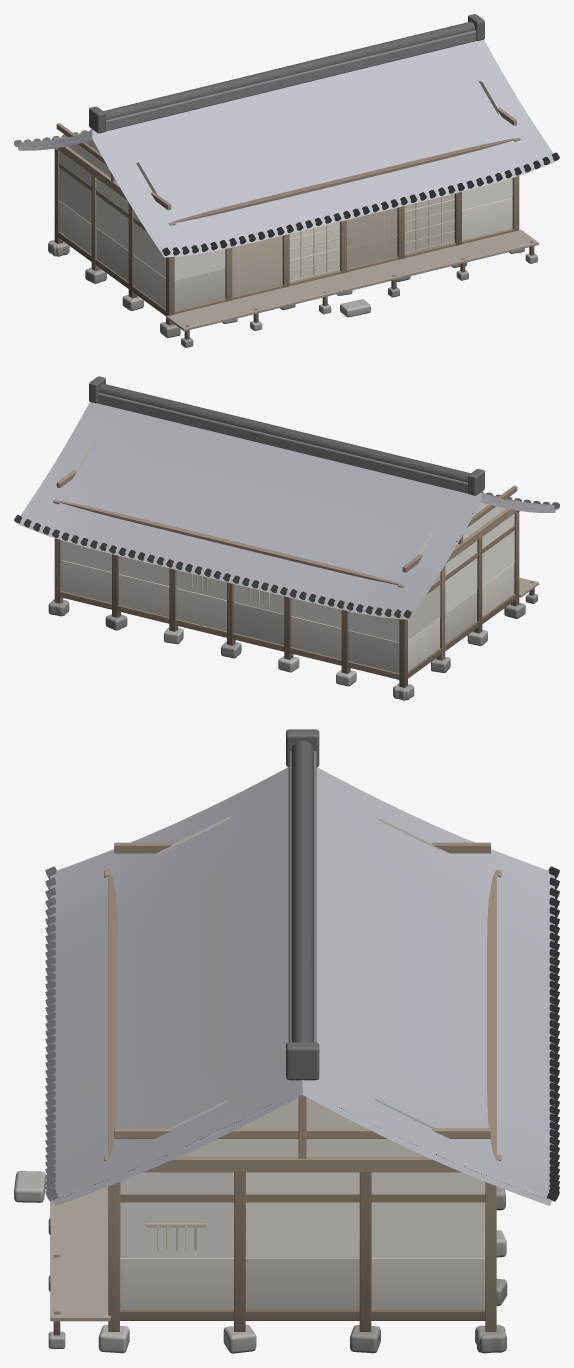
File: minka_tile_long.glb
3 renders of one model, top to bottom at view 1: azimuth 30°, elevation 25°; view 2: azimuth 150°, elevation 25°; view 3: azimuth 270°, elevation 25°, orthographic. The views are drawn at different scales.
Parts seen in each view (by area): view 1: minka_tile_long; view 2: minka_tile_long; view 3: minka_tile_long.
Boxes of the visible parts, box(x1,y1,x2,y2) form: minka_tile_long: box(14, 14, 559, 347); minka_tile_long: box(14, 376, 559, 700); minka_tile_long: box(14, 729, 559, 1353).
Size of the model in its own units: 11.48 by 5.22 by 8.11.
